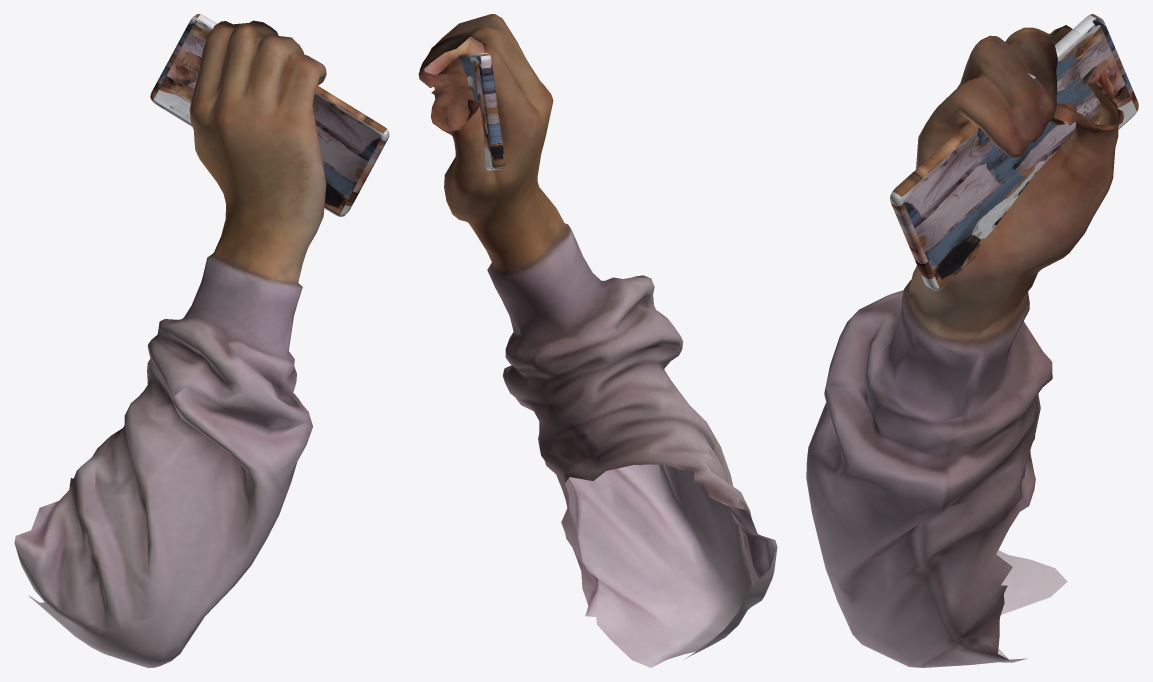
File: rightForeArm.obj
3 renders of one model, left to right at view 1: azimuth 30°, elevation 25°; view 2: azimuth 150°, elevation 25°; view 3: azimuth 270°, elevation 25°, orthographic. The views are drawn at different scales.
Parts seen in each view (by area): view 1: rightForeArm; view 2: rightForeArm; view 3: rightForeArm.
Part boxes in pixels (left/top/right/bottom): rightForeArm: left=14, top=14, right=389, bottom=667; rightForeArm: left=418, top=14, right=777, bottom=667; rightForeArm: left=806, top=14, right=1138, bottom=667.
Size of the model in its own units: 3.05 by 4.85 by 2.01.
Materials: 1 (1 with a texture image).
